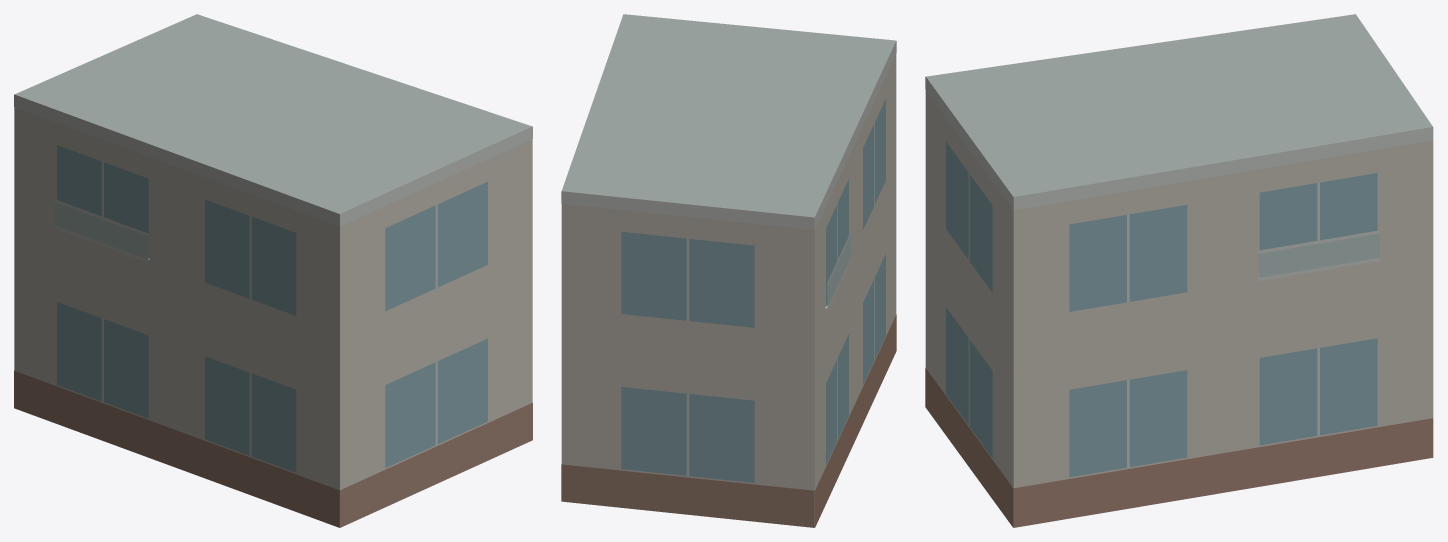
The model's file is survey-upis-32464971.glb.
The picture shows the model from 3 angles, left to right: view 1: azimuth 30°, elevation 25°; view 2: azimuth 150°, elevation 25°; view 3: azimuth 270°, elevation 25°; orthographic projection. The views are drawn at different scales.
Parts seen in each view (by area): view 1: survey-upis-32464971.tmp; view 2: survey-upis-32464971.tmp; view 3: survey-upis-32464971.tmp.
Boxes of the visible parts, <box> form: survey-upis-32464971.tmp: <box>14,14,532,527</box>; survey-upis-32464971.tmp: <box>561,14,896,527</box>; survey-upis-32464971.tmp: <box>925,14,1433,527</box>.
Size of the model in its own units: 7.25 by 6.1 by 8.49.
